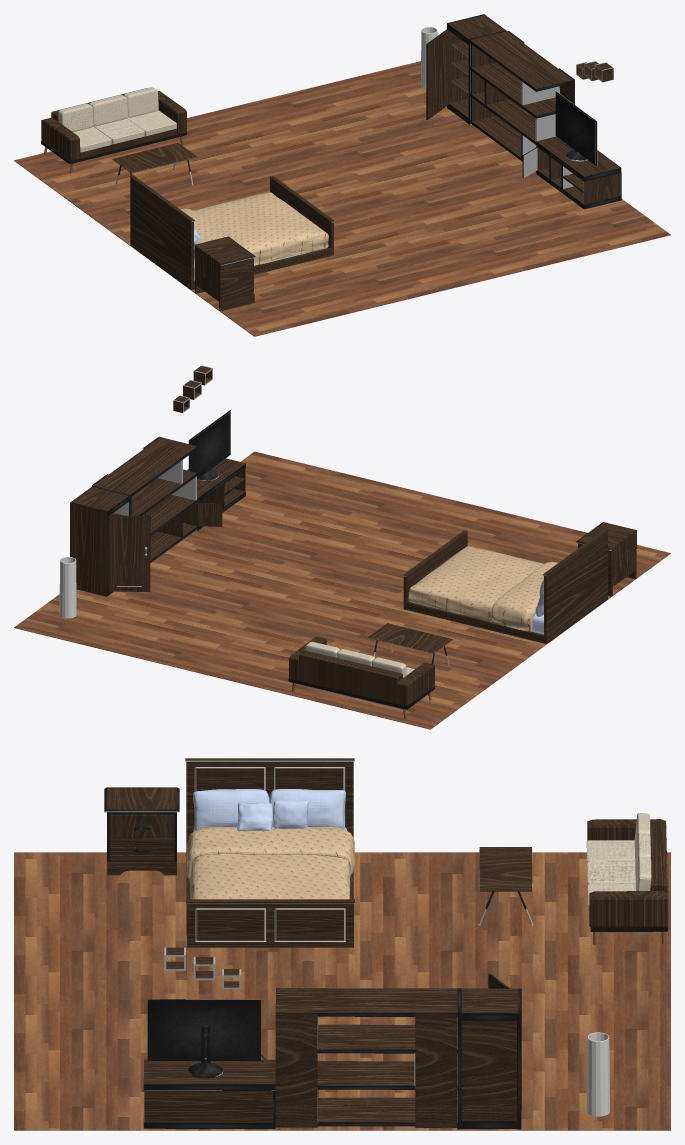
File: T2 Set 2 Pos 7.glb
3 views of the same model, one above another, from view 1: azimuth 30°, elevation 25°; view 2: azimuth 150°, elevation 25°; view 3: azimuth 270°, elevation 25° (orthographic). The views are drawn at different scales.
Bounding box in the file's own units: 0.2923 × 0.0855 × 0.292.
9 materials, 8 textured.
